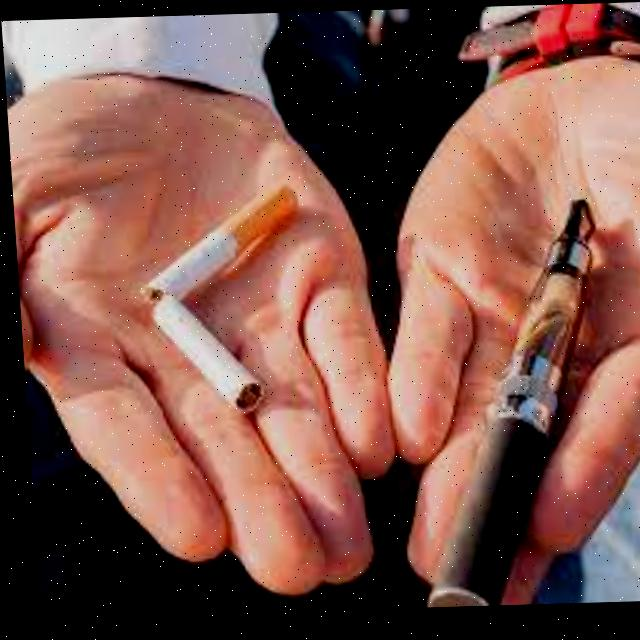cigarette: (132, 186, 301, 303), (146, 294, 258, 417)
vape: (393, 202, 614, 609)
